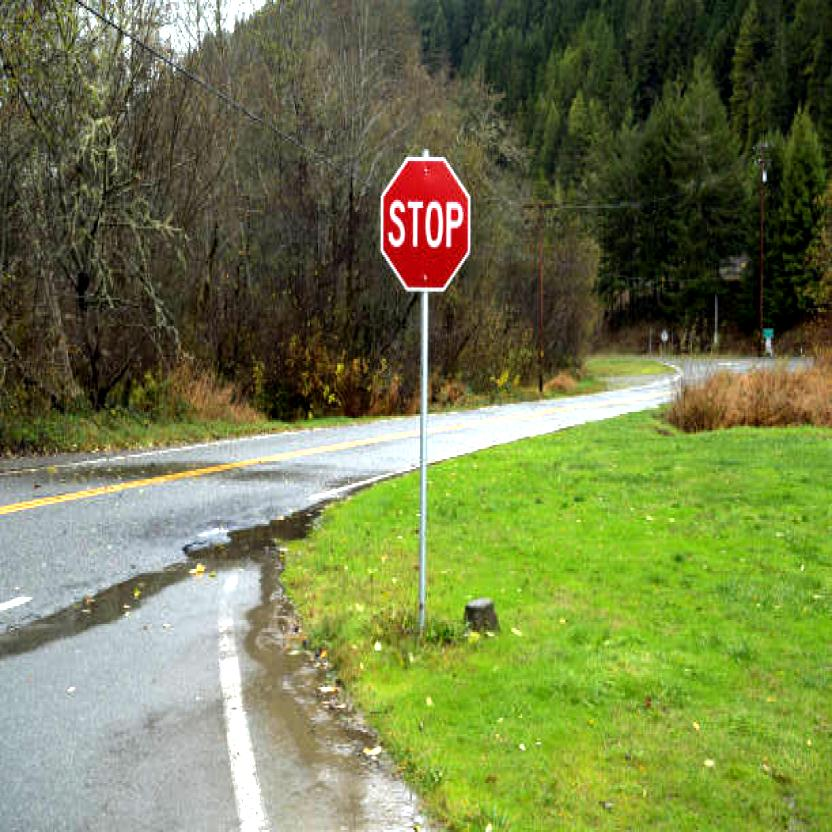Pole: (417, 293, 431, 633)
Sign: (379, 156, 471, 291)
